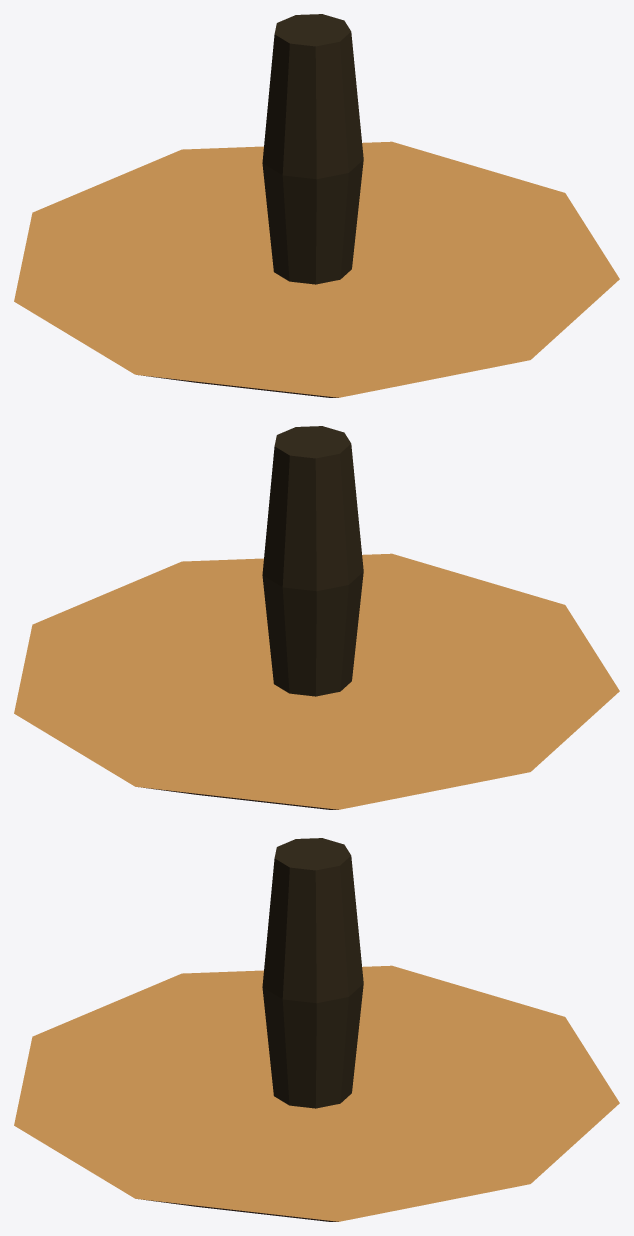
The picture shows the model from 3 angles, top to bottom: view 1: azimuth 30°, elevation 25°; view 2: azimuth 150°, elevation 25°; view 3: azimuth 270°, elevation 25°; orthographic projection.
Visible parts, largest first — view 1: Sphere027; view 2: Sphere027; view 3: Sphere027.
Boxes of the visible parts, x1,y1,x2,y2 form: Sphere027: (14, 14, 619, 397); Sphere027: (14, 426, 619, 809); Sphere027: (14, 838, 619, 1221).
Size of the model in its own units: 0.3443 by 0.1887 by 0.3443.
